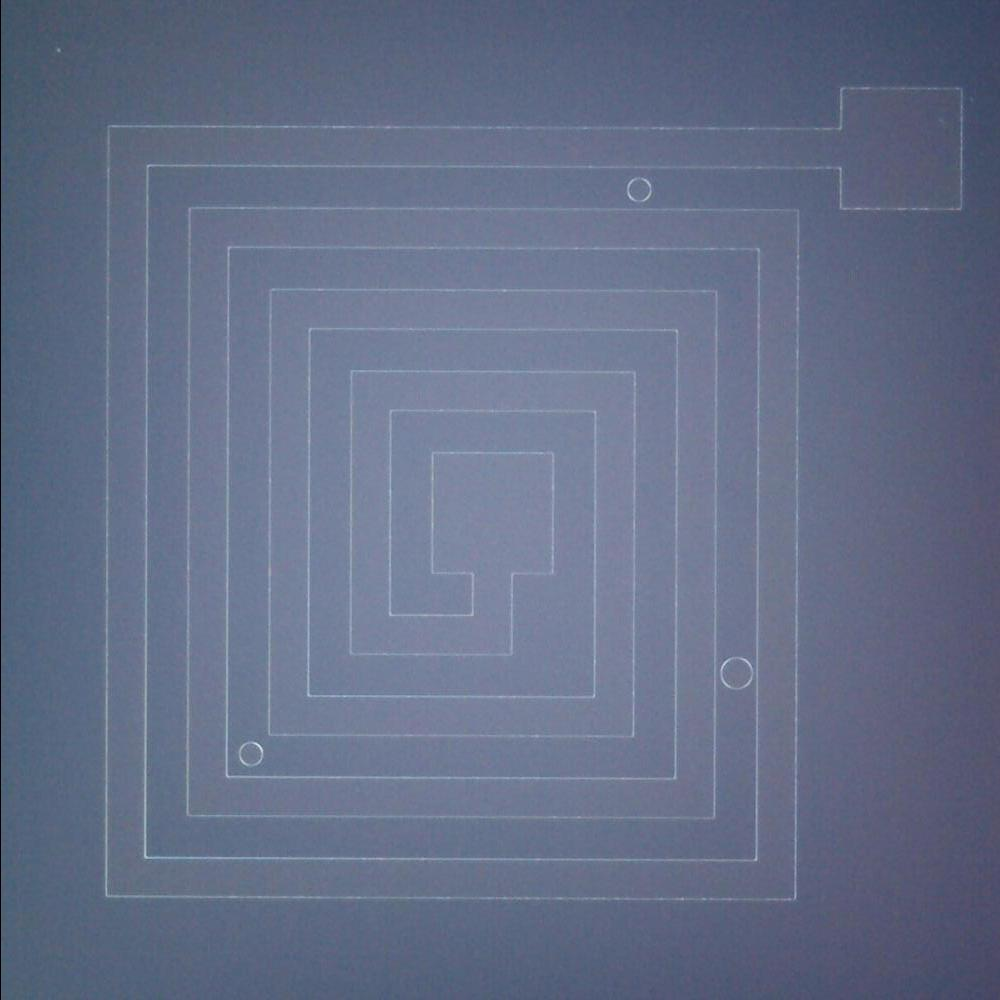circle: (718, 652, 758, 694), (236, 739, 268, 773), (618, 176, 655, 204)
